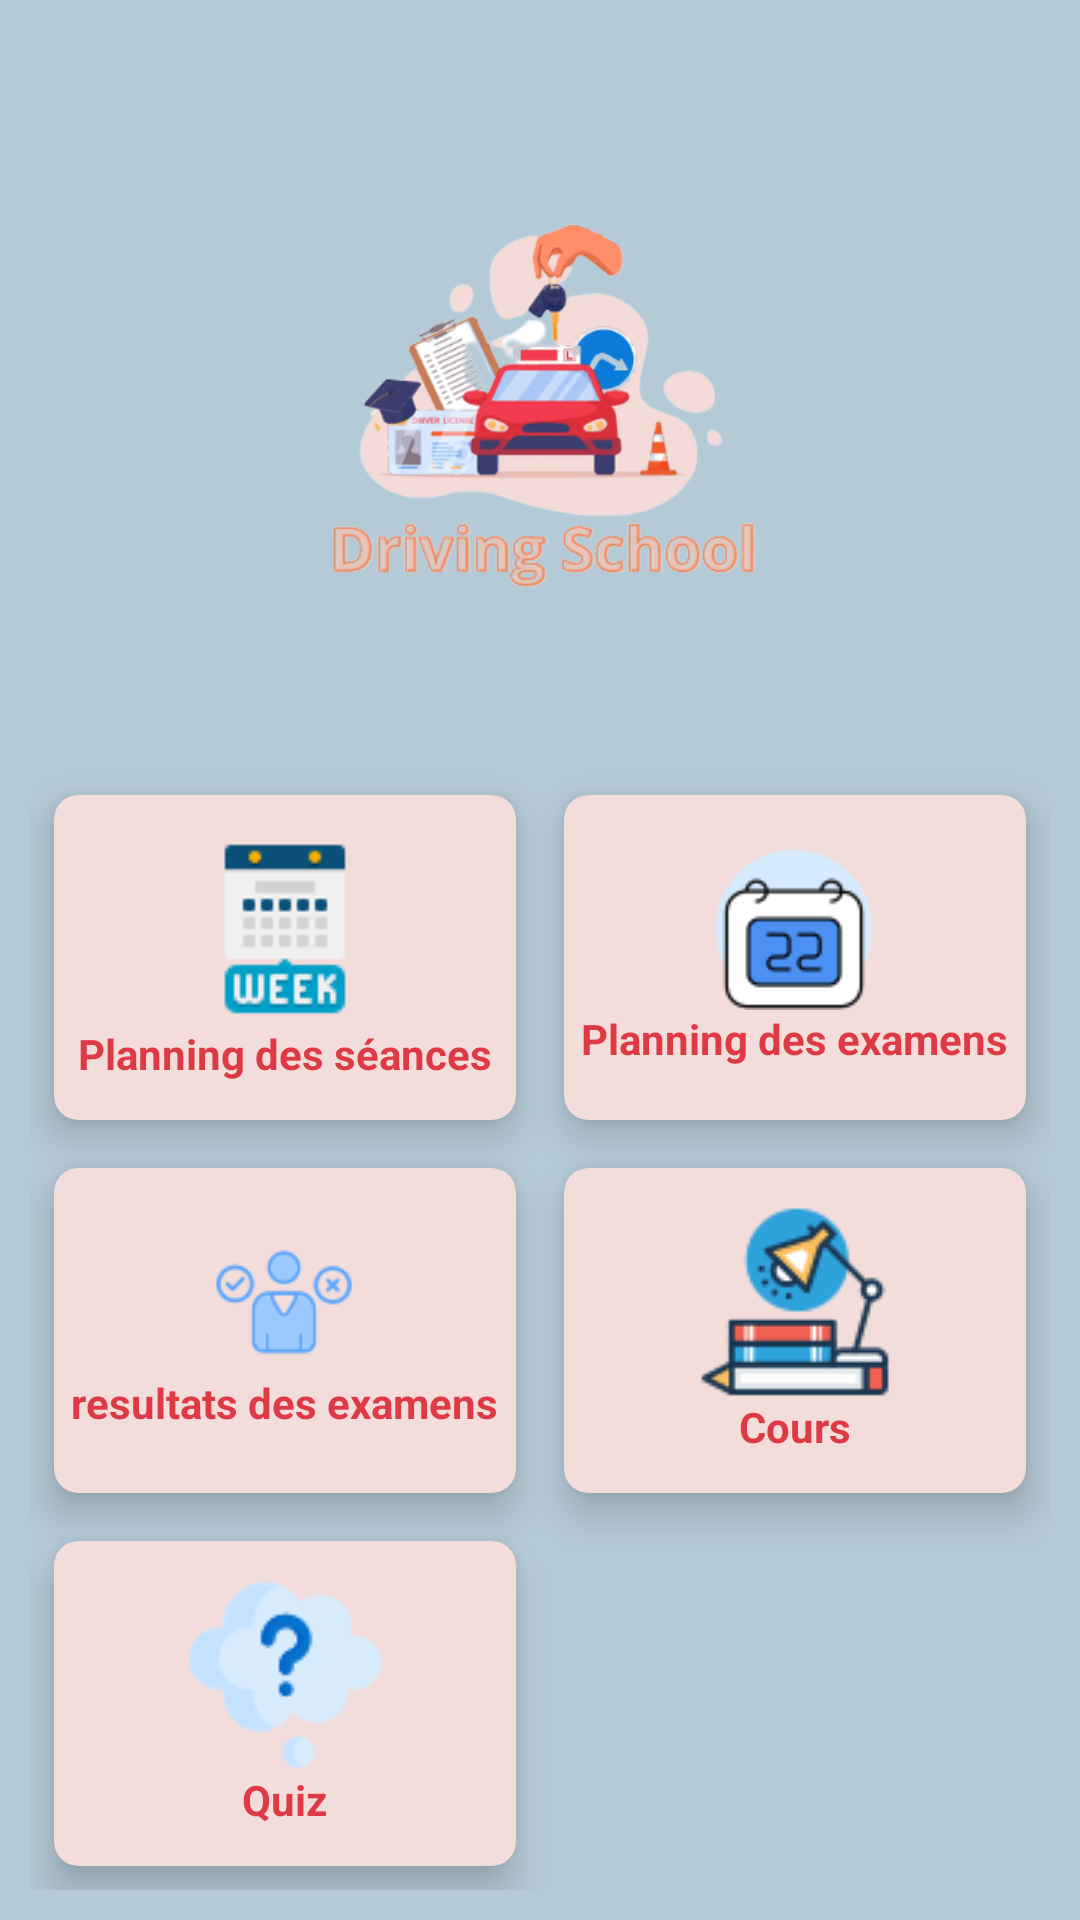

Where icons sit on this 1080x1920 app screen, as (x1, y1, x2, y2):
calendarexm: (716, 851, 872, 1010)
semaine: (224, 844, 346, 1014)
study: (701, 1208, 889, 1396)
yesno: (216, 1250, 352, 1354)
